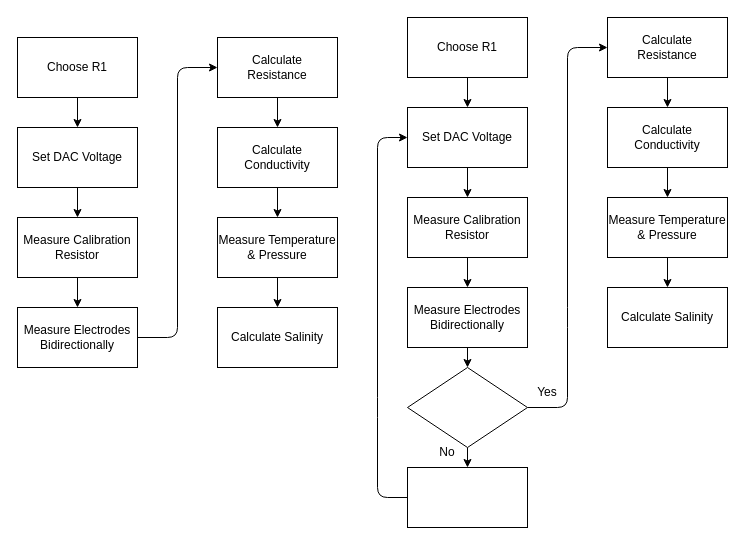
Image size: 745x545. Some labels were removed from this diagram. The shapes that lost their labels are listed below. From the top down, each one's centre as x and y in pixels, then its label:
At pixel 467 407: "Max Voltage Reached".
At pixel 467 497: "Increment voltage".
